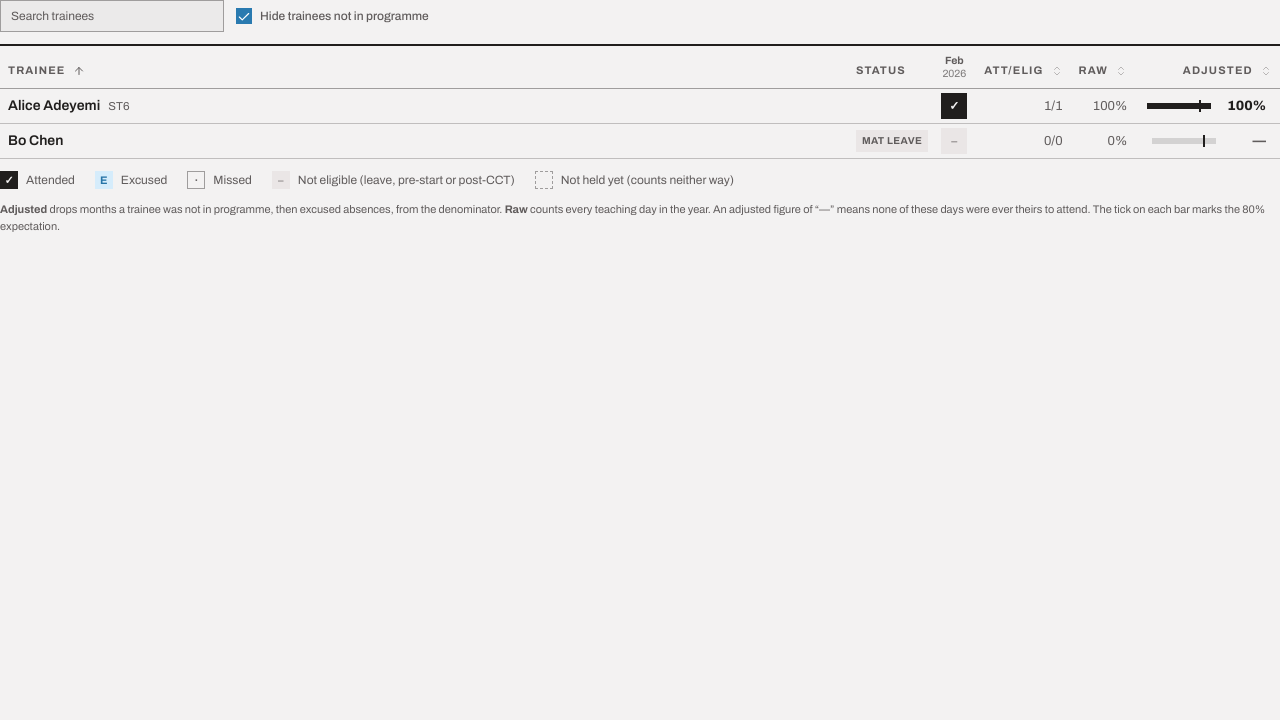
Scenario: AttendanceGrid cells › opens the details on a tap and changes nothing
Click the button named "Alice Adeyemi" at (954, 106), box [941,93,967,119]
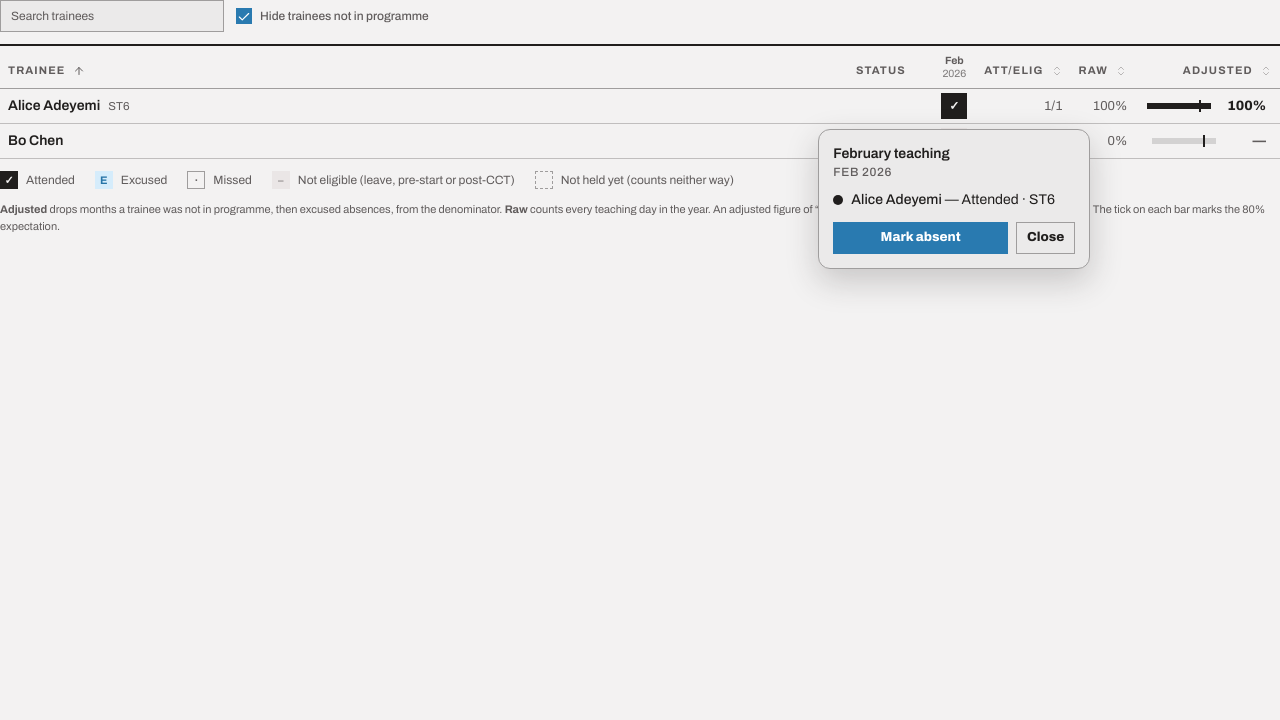
Now the text "February teaching" is shown, box [833,146,950,161]
Now the text "Feb 2026" is shown, box [833,164,892,178]
Now the text "Alice Adeyemi — Attended · ST6" is shown, box [851,190,1055,210]
